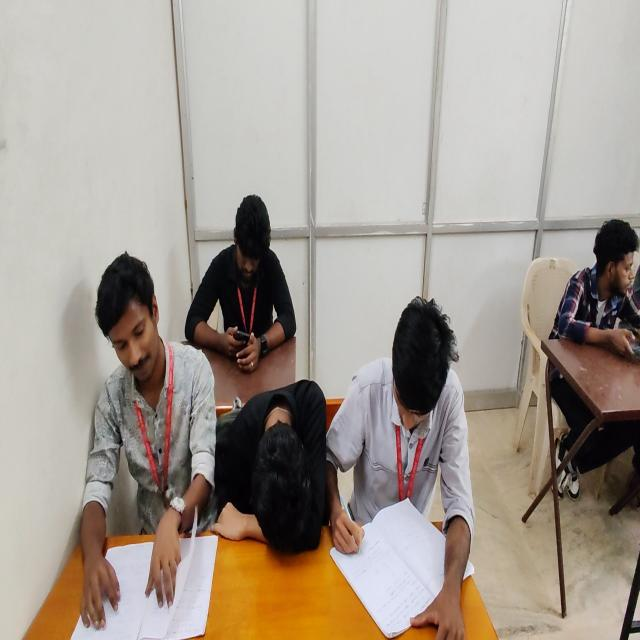reading: (80, 253, 218, 628)
sleeping: (212, 378, 326, 556)
turning: (545, 216, 640, 510)
using_mobile: (184, 193, 298, 371)
writing: (333, 297, 471, 640)
